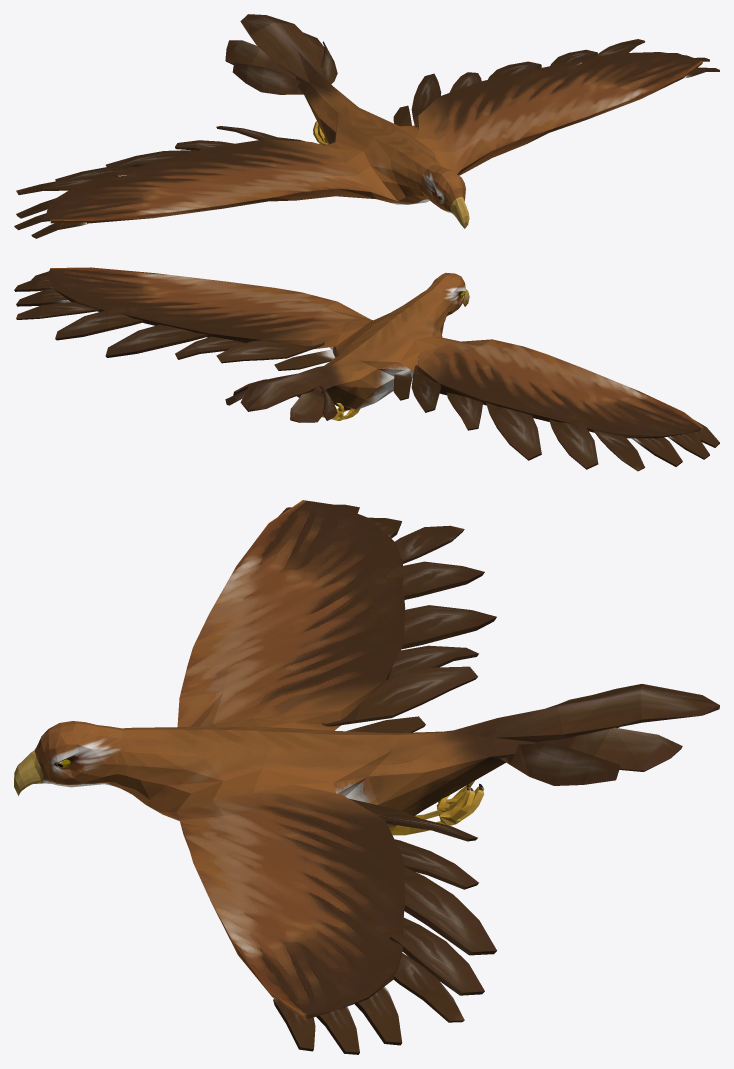
Rendered from Bird.obj.
3 views of the same model, one above another, from view 1: azimuth 30°, elevation 25°; view 2: azimuth 150°, elevation 25°; view 3: azimuth 270°, elevation 25° (orthographic). The views are drawn at different scales.
Visible parts, largest first — view 1: Object.1; view 2: Object.1; view 3: Object.1.
Boxes of the visible parts, box(x1,y1,x2,y2) form: Object.1: box(14, 14, 719, 238); Object.1: box(14, 267, 719, 471); Object.1: box(14, 500, 719, 1054).
Bounding box in the file's own units: 87.7 × 10.9 × 47.86.
Materials: 1 (1 with a texture image).
